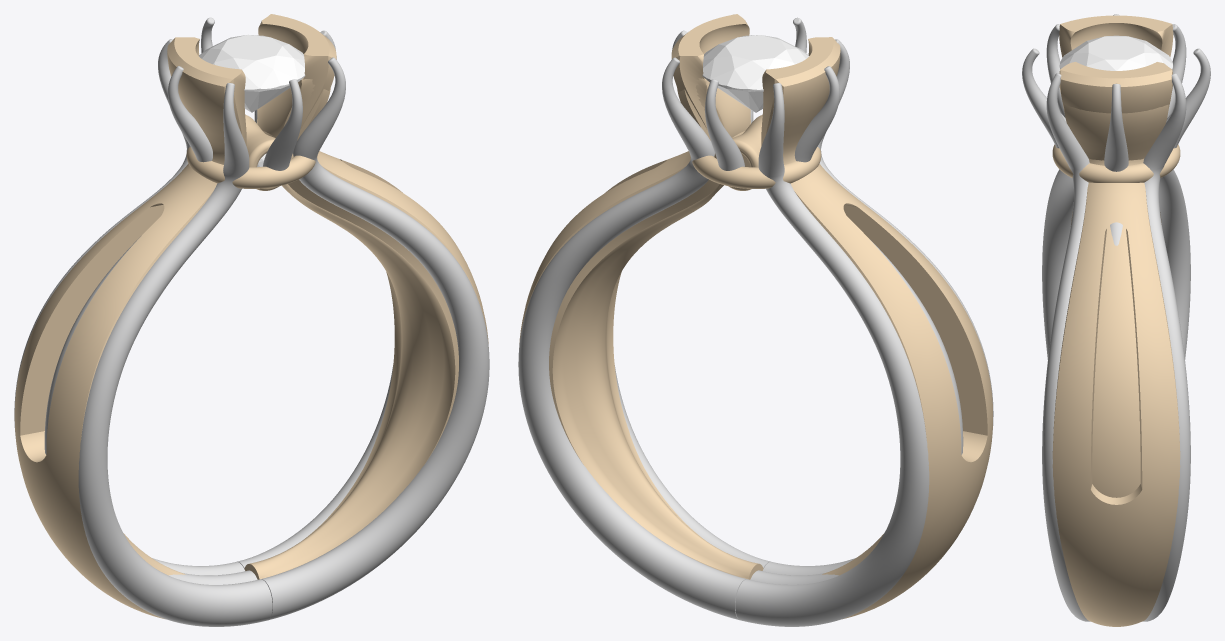
File: solstice-embrace-solitaire-ring.glb
The picture shows the model from 3 angles, left to right: view 1: azimuth 30°, elevation 25°; view 2: azimuth 150°, elevation 25°; view 3: azimuth 270°, elevation 25°; orthographic projection. The views are drawn at different scales.
Visible parts, largest first — view 1: /DC LR-0811.3dm, diamond_Mesh_13; view 2: /DC LR-0811.3dm, diamond_Mesh_13; view 3: /DC LR-0811.3dm, diamond_Mesh_13.
Part boxes in pixels (left/top/right/bottom): /DC LR-0811.3dm: left=14, top=14, right=489, bottom=626; diamond_Mesh_13: left=199, top=34, right=305, bottom=112; /DC LR-0811.3dm: left=518, top=14, right=993, bottom=626; diamond_Mesh_13: left=702, top=35, right=809, bottom=112; /DC LR-0811.3dm: left=1022, top=14, right=1210, bottom=626; diamond_Mesh_13: left=1059, top=35, right=1173, bottom=70.
Size of the model in its own units: 2.49 by 3.06 by 0.9426.
